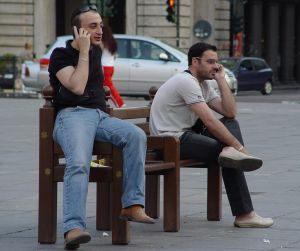phone: (72, 24, 90, 44)
talk: (70, 20, 105, 50)
